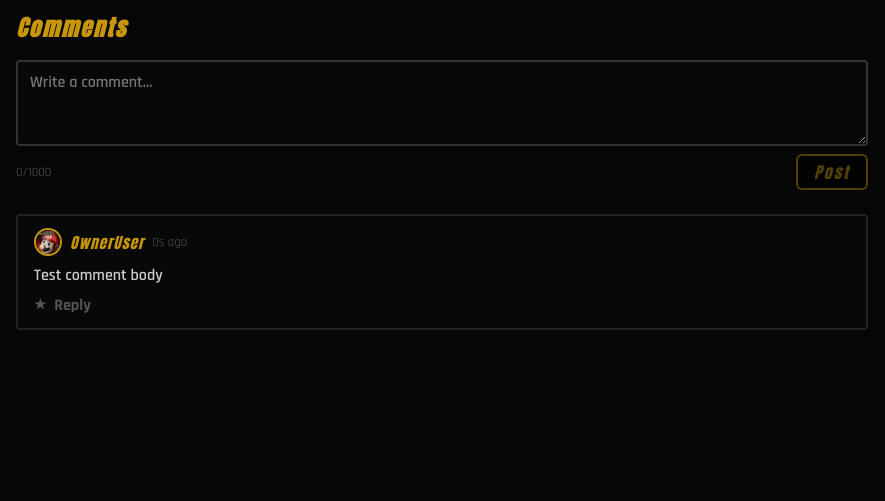
Test: CommentSection — logged-in as different user › Reply button opens reply form with correct placeholder
Click the button "Reply" at {"x": 72, "y": 305}, box [54,295,91,316]
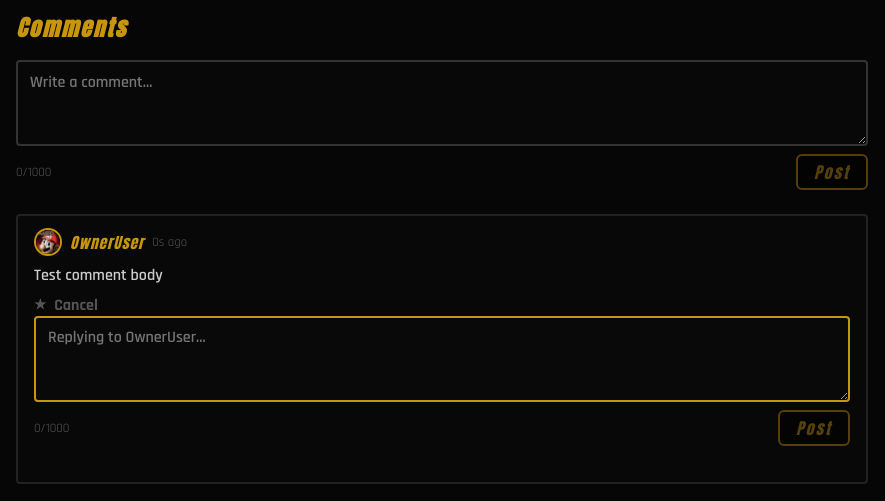
Result: the text box with placeholder "Replying to OwnerUser…" is shown at [34,316,850,402]
